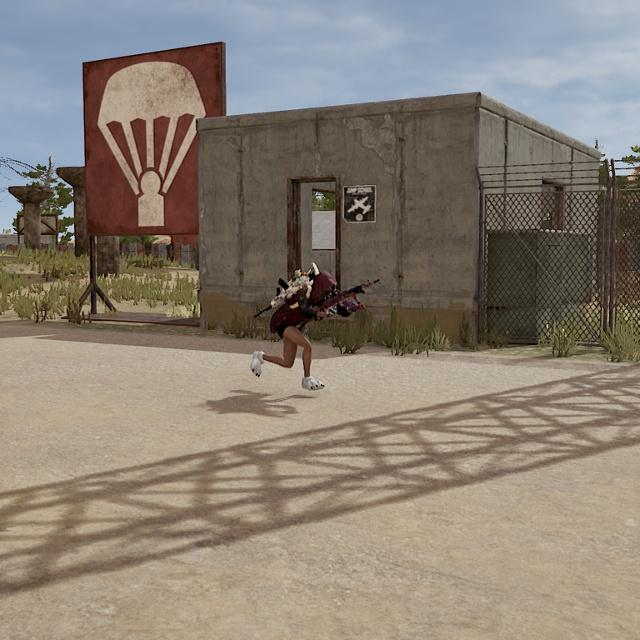head: (311, 271, 336, 299)
people: (250, 271, 341, 391)
